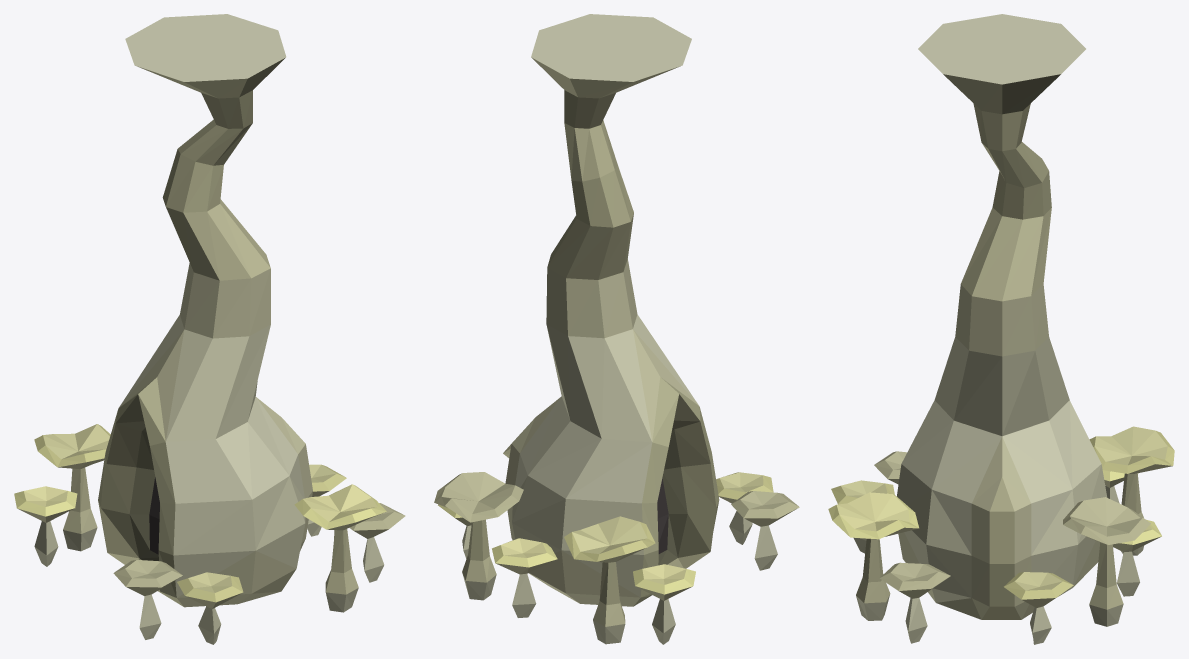
File: mycelium-transport.gltf
The picture shows the model from 3 angles, left to right: view 1: azimuth 30°, elevation 25°; view 2: azimuth 150°, elevation 25°; view 3: azimuth 270°, elevation 25°; orthographic projection.
Size of the model in its own units: 241 by 426 by 251.
1 material, 1 textured.
